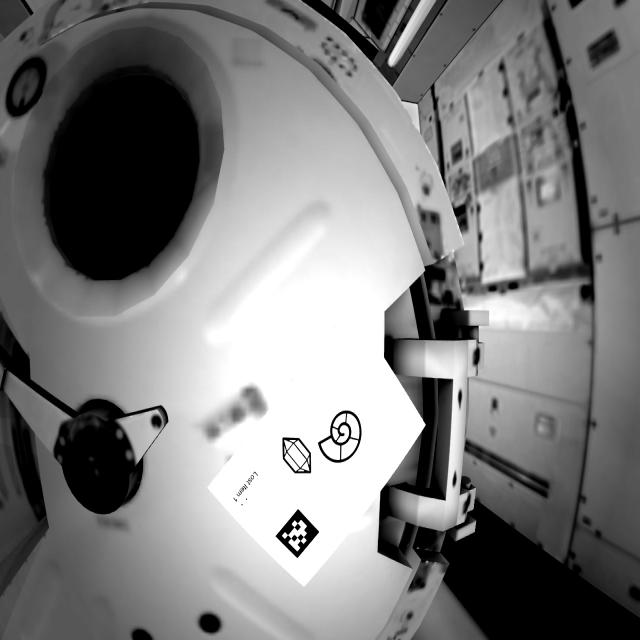crystal: (277, 429, 322, 483)
fossil: (317, 407, 374, 469)
